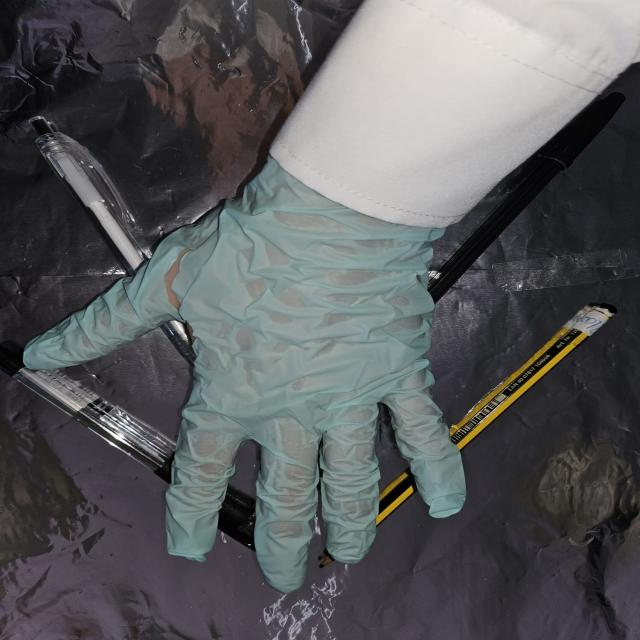gloves_damaged: (20, 153, 463, 591)
